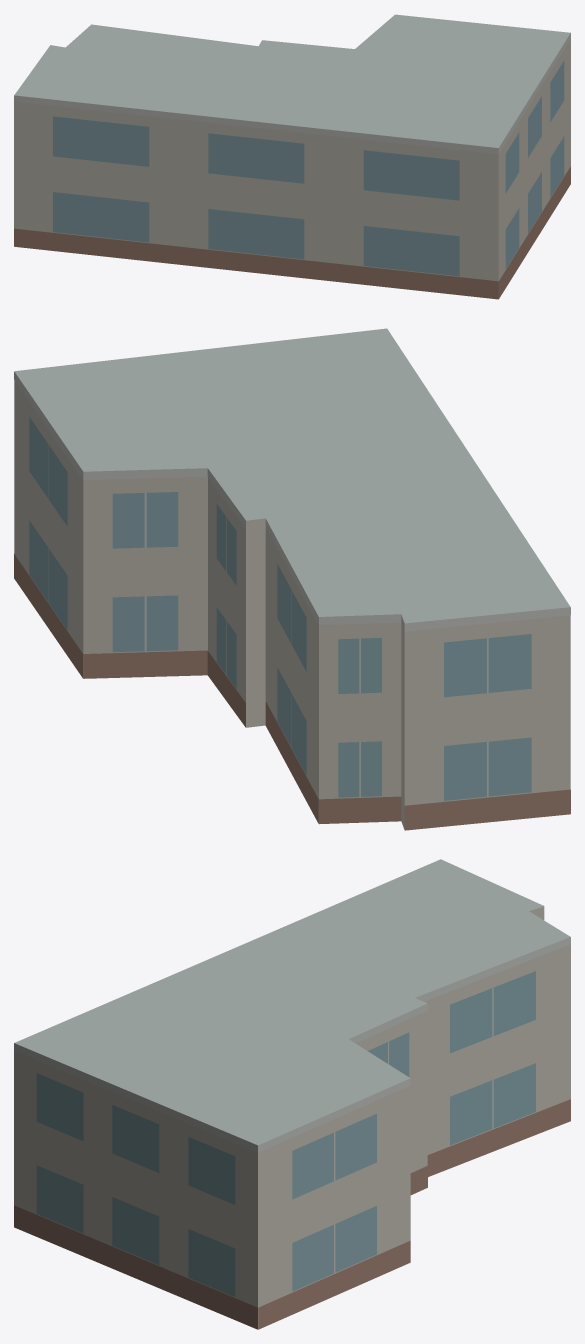
The model's file is survey-upis-32507919.glb.
The picture shows the model from 3 angles, top to bottom: view 1: azimuth 30°, elevation 25°; view 2: azimuth 150°, elevation 25°; view 3: azimuth 270°, elevation 25°; orthographic projection. The views are drawn at different scales.
Visible parts, largest first — view 1: survey-upis-32507919.tmp; view 2: survey-upis-32507919.tmp; view 3: survey-upis-32507919.tmp.
Boxes of the visible parts, x1=… form: survey-upis-32507919.tmp: x1=14, y1=14, x2=570, y2=299; survey-upis-32507919.tmp: x1=14, y1=328, x2=570, y2=830; survey-upis-32507919.tmp: x1=14, y1=859, x2=570, y2=1329.
Bounding box in the file's own units: 20.33 × 6.1 × 16.71.
